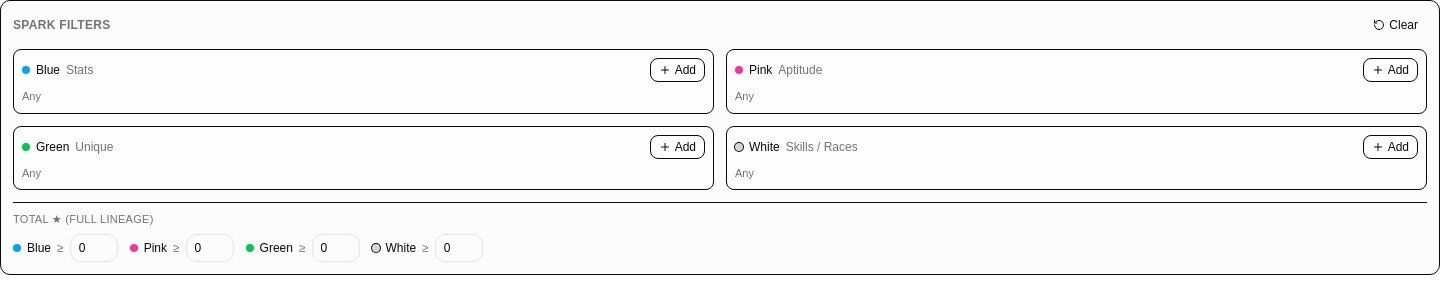
Scenario: SparkFilterBar › offers >= / not and keeps the star editable except in not mode
The width and height of the screenshot is (1440, 303).
Click the button with test id "spark-add-blue". click: (677, 70)
box: [650,58,705,82]
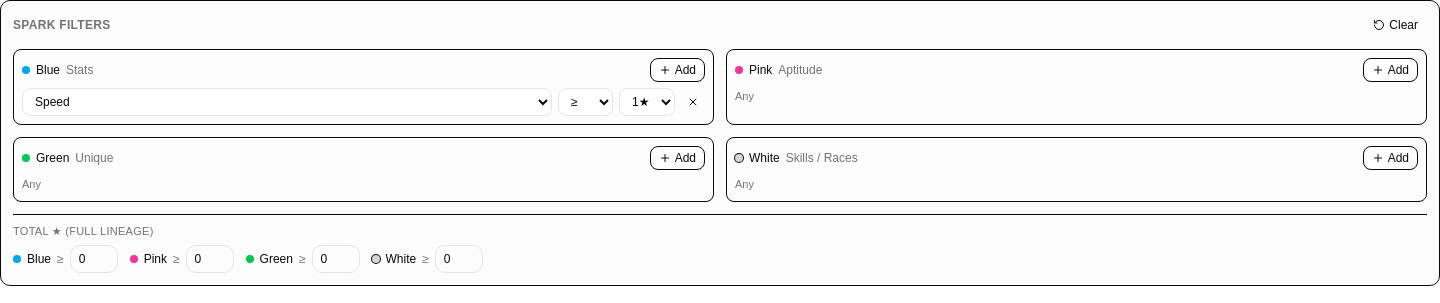
expect the dropdown with test id "spark-condition-stars-0" is enabled: met, box [619,88,675,116]
Select "not" in the dropdown with test id "spark-condition-mode-0". click: (586, 102)
box: [558,88,613,116]
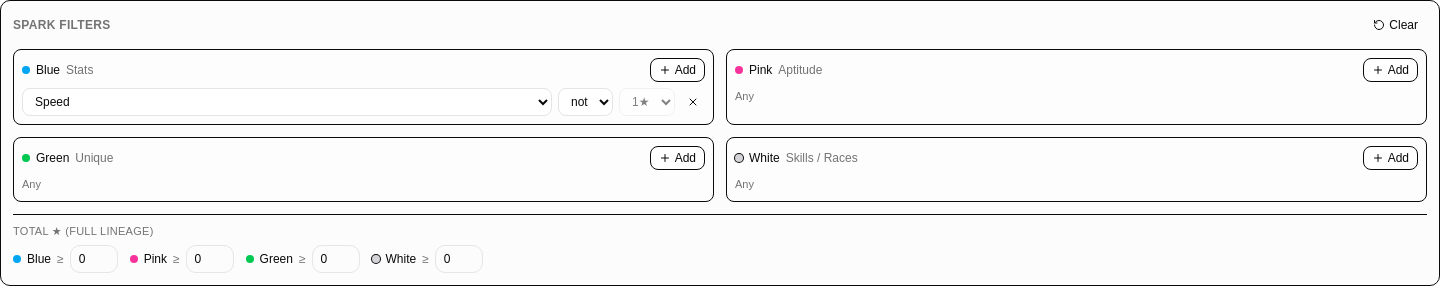
expect the dropdown with test id "spark-condition-stars-0" is disabled: met, box [619,88,675,116]
Select "≥" in the dropdown with test id "spark-condition-mode-0". click: (586, 102)
box: [558,88,613,116]
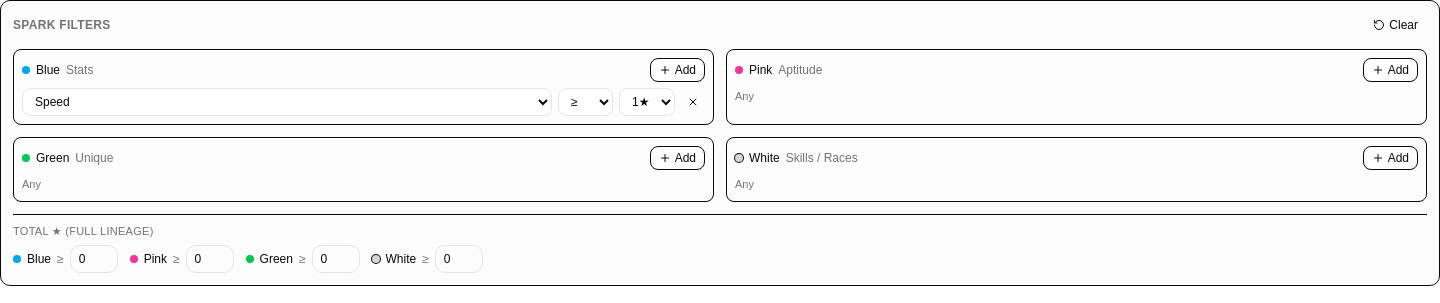
expect the dropdown with test id "spark-condition-stars-0" is enabled: met, box [619,88,675,116]
